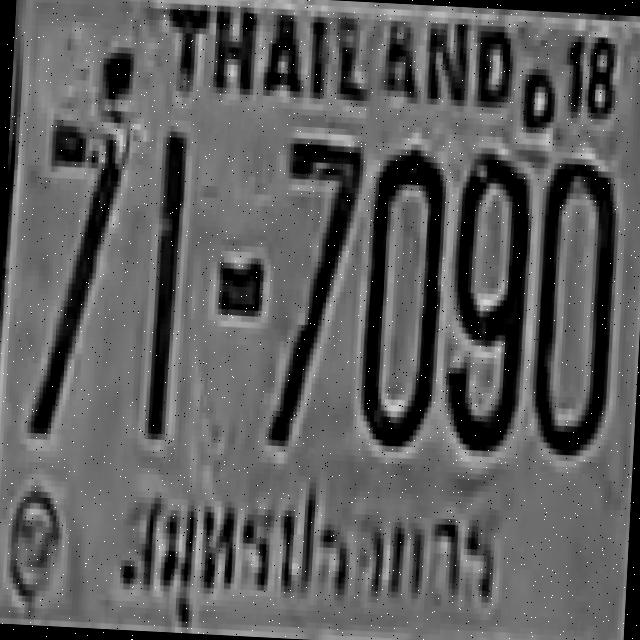0: (355, 146, 444, 451), (530, 156, 620, 456)
1: (142, 132, 185, 434)
7: (29, 119, 126, 443), (269, 136, 366, 448)
9: (442, 150, 531, 450)
SamutPrakan: (109, 472, 508, 625)
